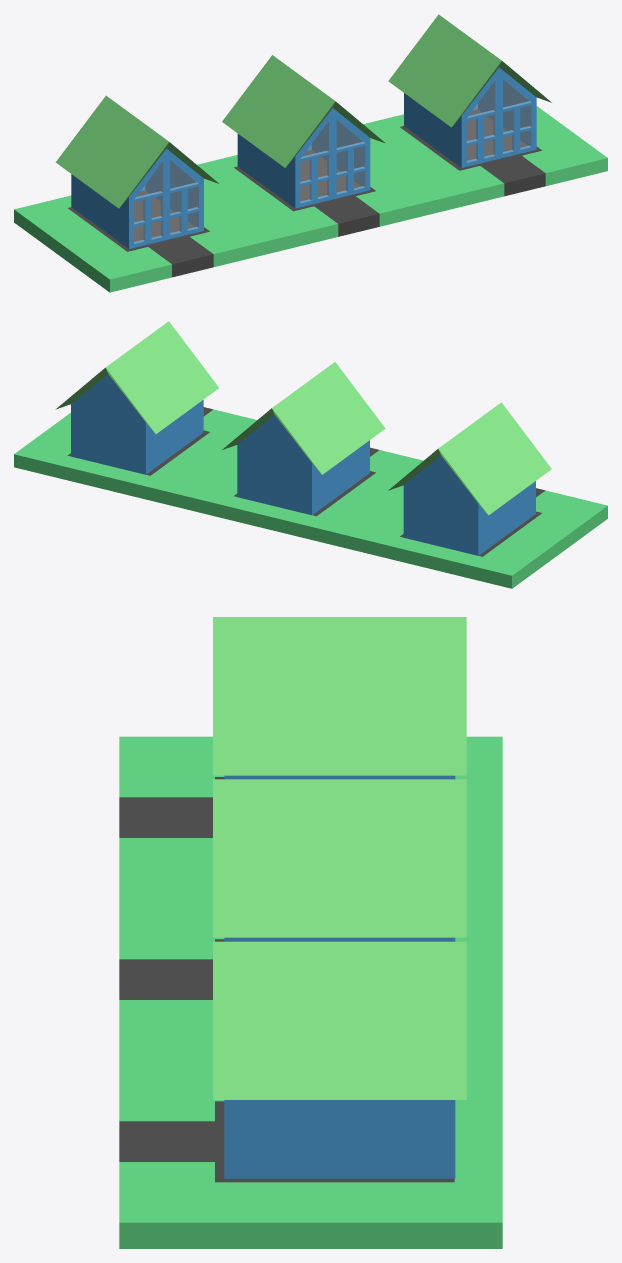
Rendered from houses.gltf.
3 renders of one model, top to bottom at view 1: azimuth 30°, elevation 25°; view 2: azimuth 150°, elevation 25°; view 3: azimuth 270°, elevation 25°, orthographic. The views are drawn at different scales.
Parts seen in each view (by area): view 1: light_ground, roof, wall, dark_ground, window; view 2: light_ground, wall, roof, dark_ground; view 3: roof, light_ground, wall, dark_ground.
Boxes of the visible parts, left/top/right/bottom form: light_ground: left=14, top=106, right=607, bottom=292; roof: left=55, top=14, right=551, bottom=208; wall: left=71, top=67, right=536, bottom=248; dark_ground: left=68, top=109, right=545, bottom=277; window: left=134, top=79, right=531, bottom=243; light_ground: left=14, top=409, right=607, bottom=588; wall: left=71, top=374, right=535, bottom=555; roof: left=55, top=321, right=551, bottom=515; dark_ground: left=68, top=407, right=545, bottom=556; roof: left=213, top=617, right=466, bottom=1099; light_ground: left=119, top=736, right=502, bottom=1248; wall: left=224, top=775, right=455, bottom=1178; dark_ground: left=119, top=777, right=454, bottom=1182.
Size of the model in its own units: 39.87 by 8.67 by 13.29.
